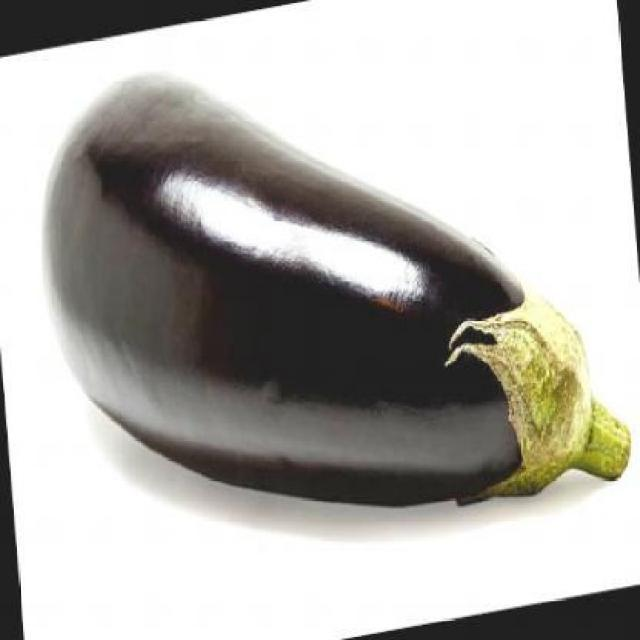eggplant: (40, 69, 634, 518)
